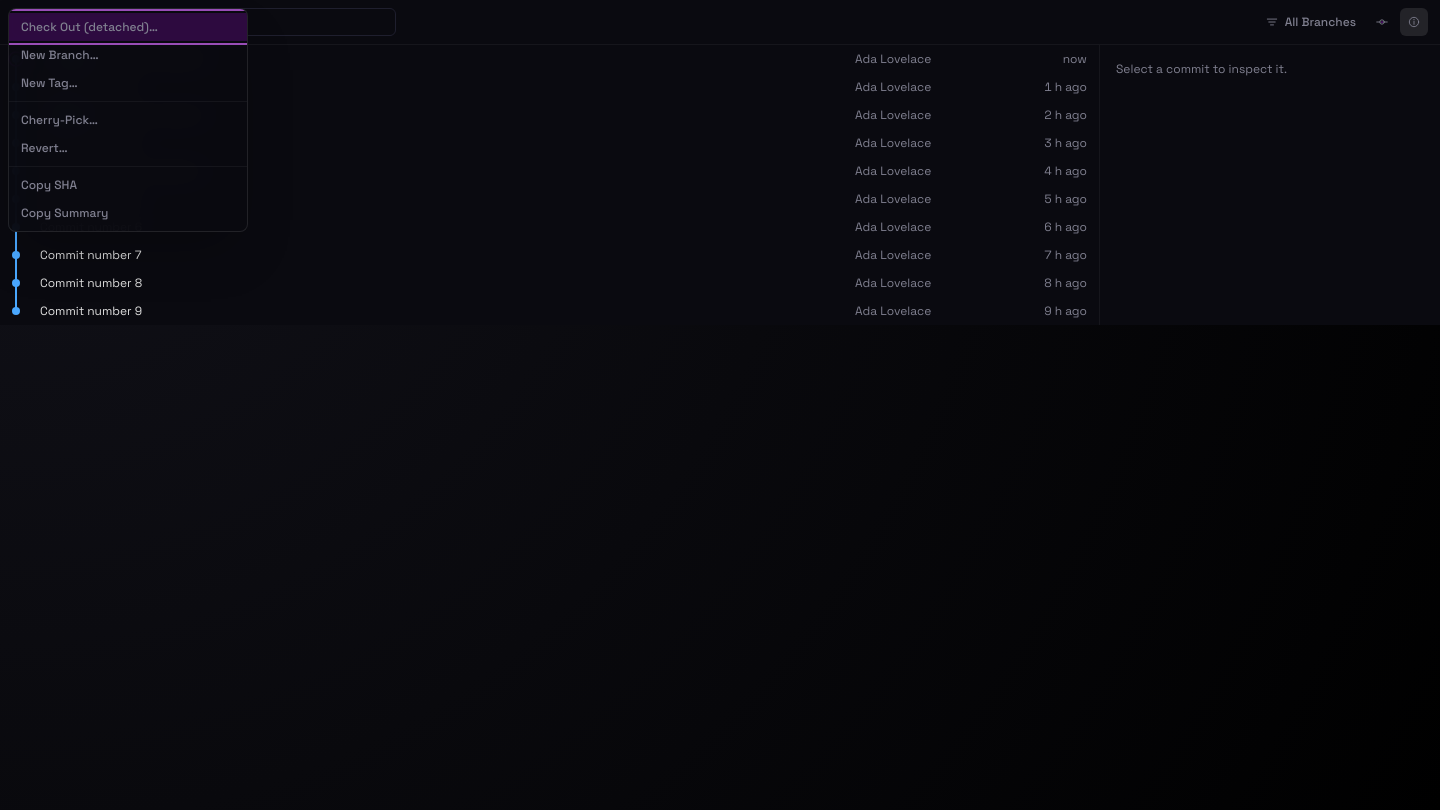
Test case: GitGraphView › operations › does nothing when the sheet is cancelled
Click the menu item "Cherry-Pick…": x=128, y=120 [9,106,247,134]
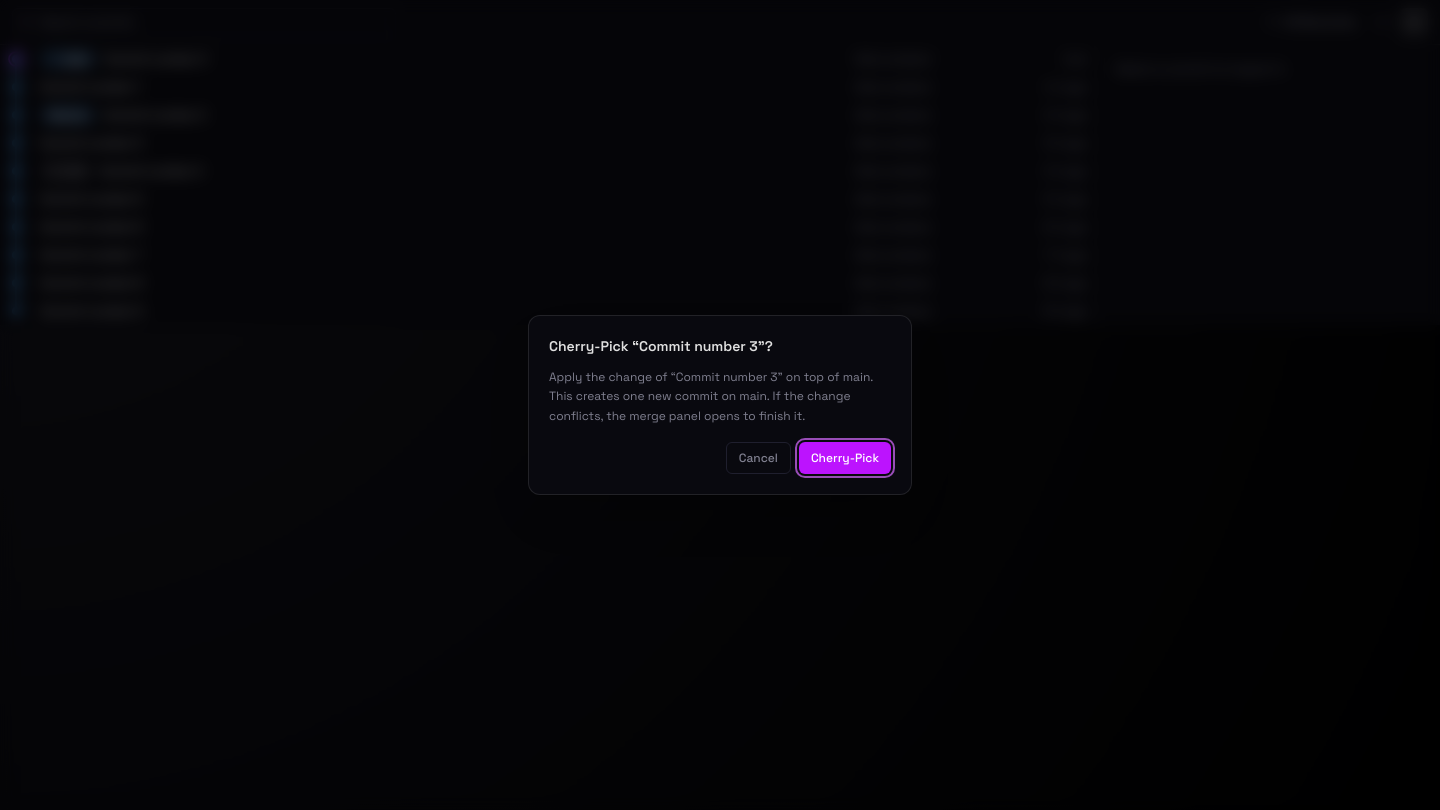
Click the button "Cancel": x=758, y=458 [726,442,791,474]
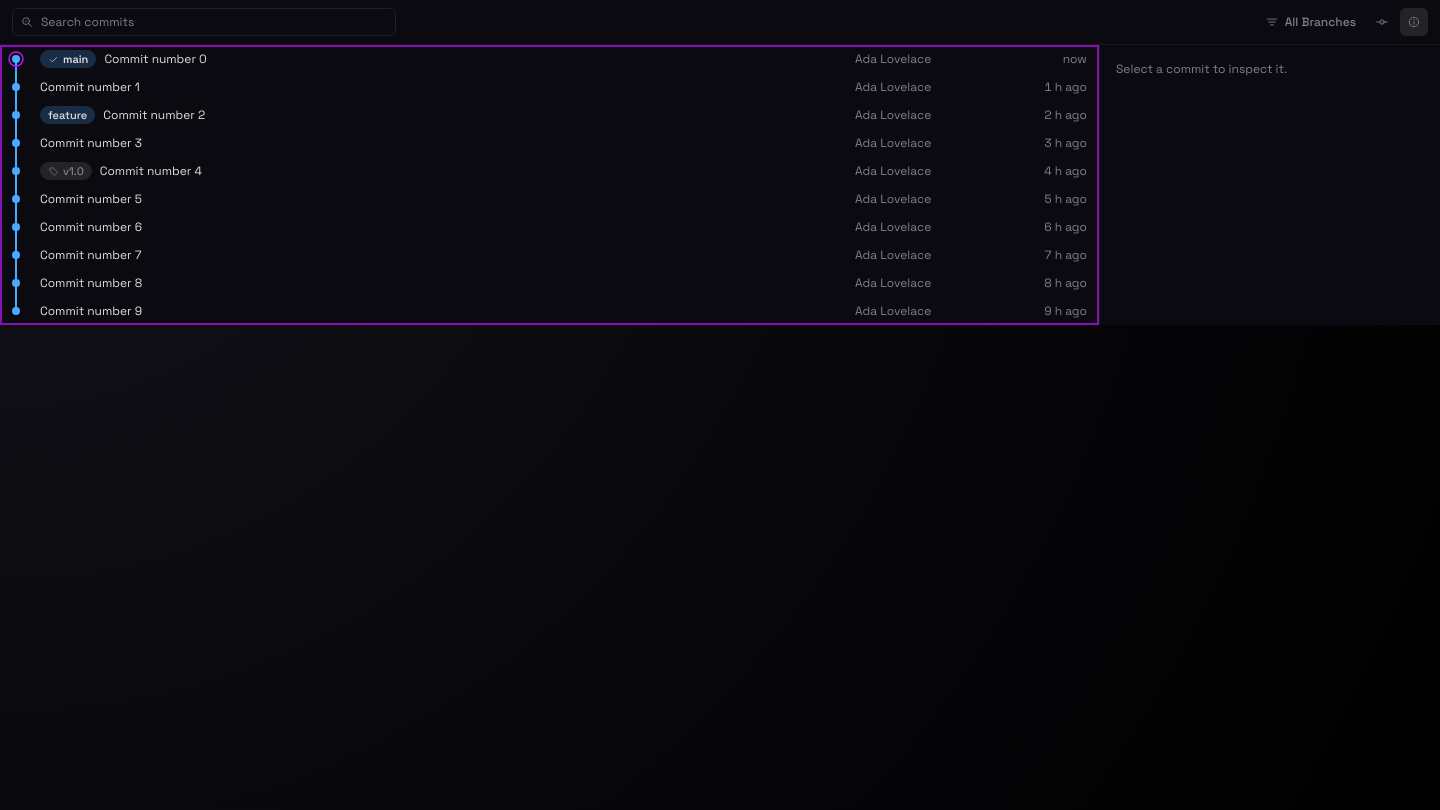
Expected: the dialog is gone
